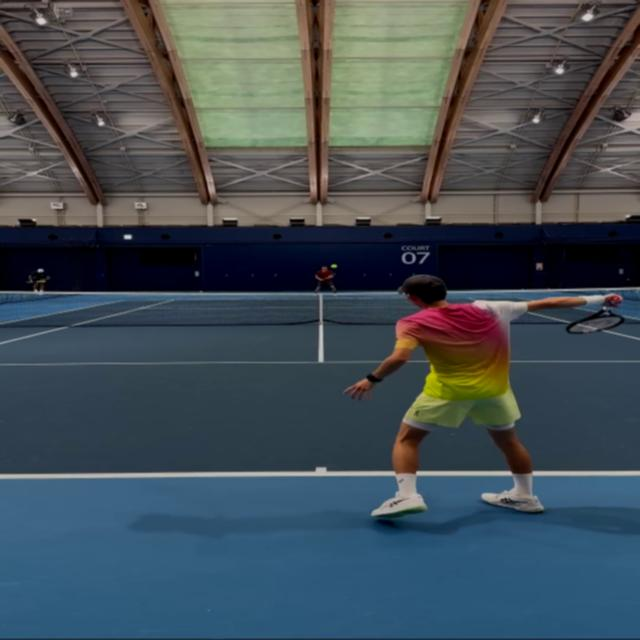tennis_ball: (332, 265, 336, 268)
